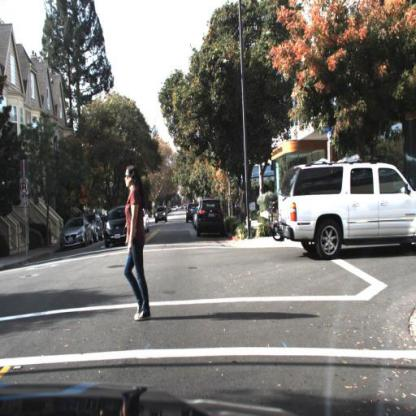car: (275, 162, 416, 260), (196, 199, 226, 240), (60, 217, 94, 247), (104, 204, 127, 246), (89, 212, 105, 242), (152, 205, 169, 228), (155, 203, 168, 227), (144, 210, 151, 233)
pedestrian: (118, 164, 151, 320)
